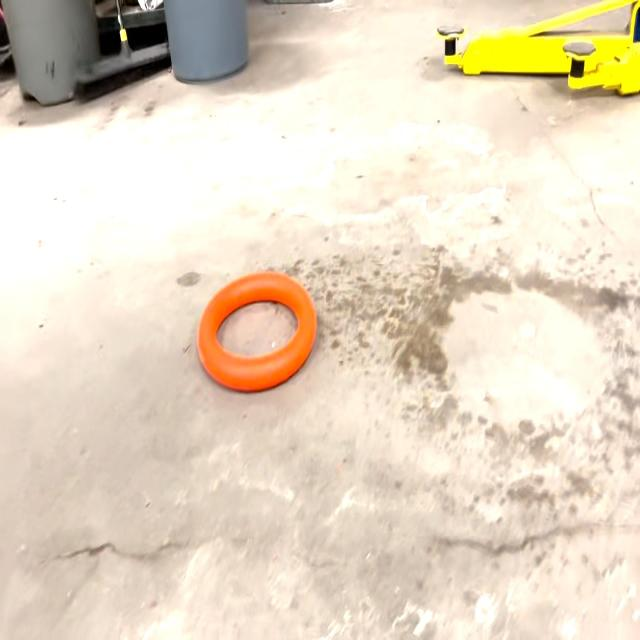note: (200, 270, 314, 390)
